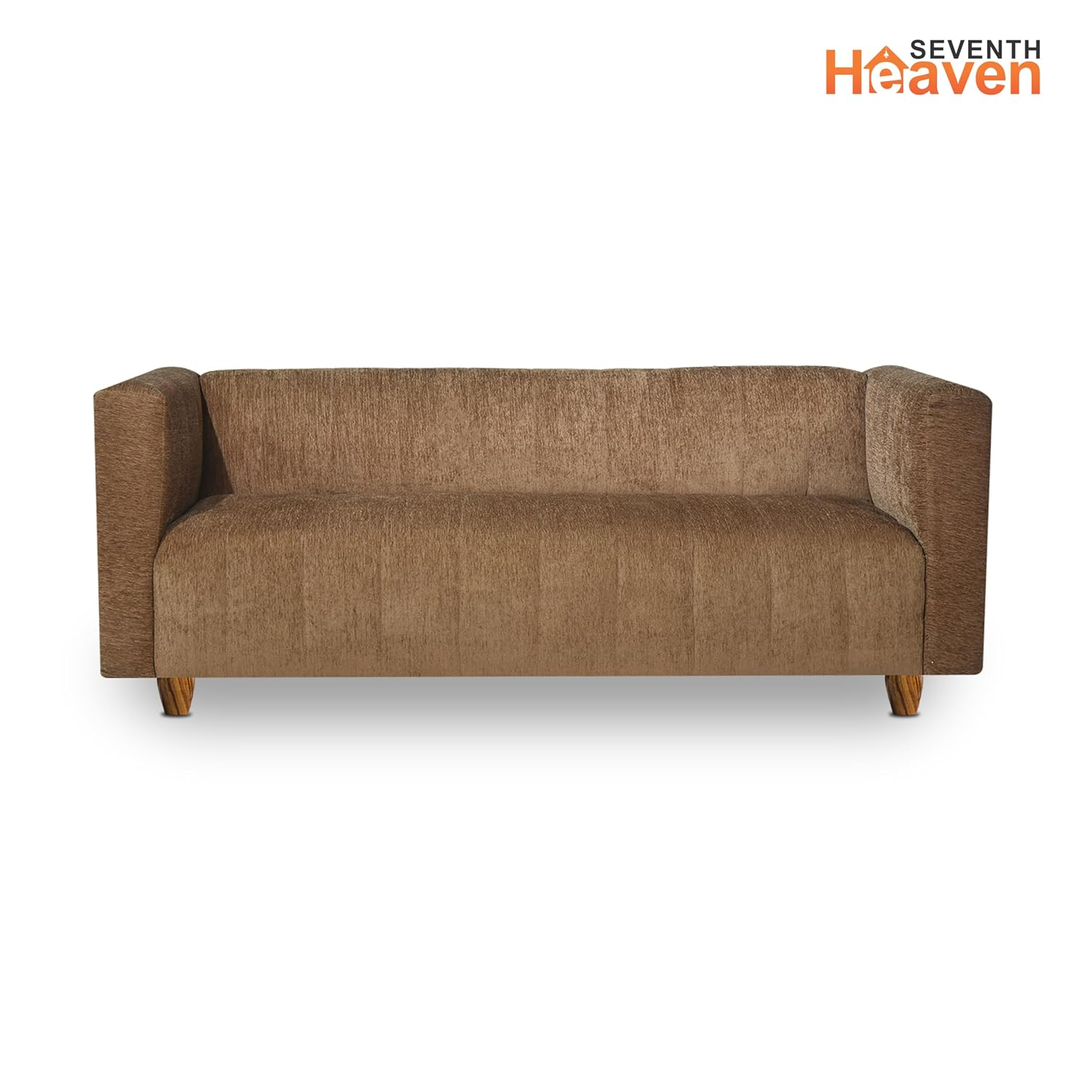3seatersofa: (94, 367, 990, 715)
backrest: (201, 367, 868, 501)
leftarmrest: (865, 367, 991, 674)
leg: (885, 676, 923, 716), (157, 678, 193, 715)
rightarmrest: (95, 367, 202, 677)
seat: (154, 491, 925, 676)
